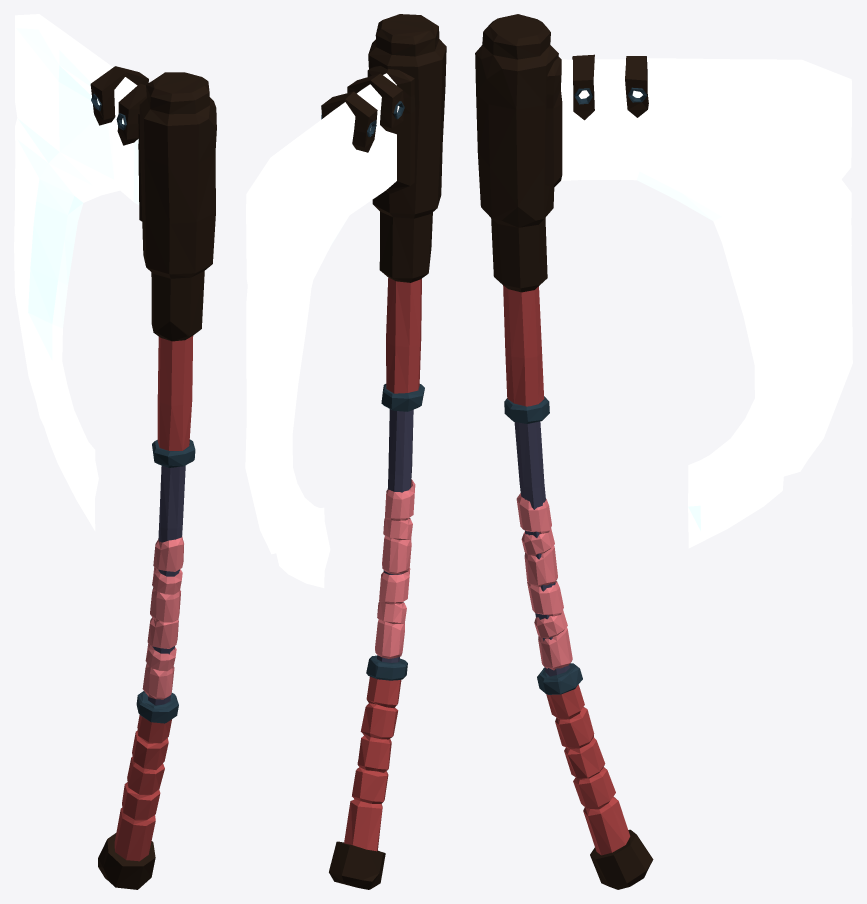
File: SFFA_Weapon_Axe_Runical_003.fbx
3 renders of one model, left to right at view 1: azimuth 30°, elevation 25°; view 2: azimuth 150°, elevation 25°; view 3: azimuth 270°, elevation 25°, orthographic. The views are drawn at different scales.
Visible parts, largest first — view 1: SFFA_Weapon_Axe_Runical_003; view 2: SFFA_Weapon_Axe_Runical_003; view 3: SFFA_Weapon_Axe_Runical_003.
Part boxes in pixels (<box>): SFFA_Weapon_Axe_Runical_003: <box>14,14,216,889</box>; SFFA_Weapon_Axe_Runical_003: <box>245,14,446,889</box>; SFFA_Weapon_Axe_Runical_003: <box>475,14,852,889</box>.
Bounding box in the file's own units: 10.25 × 116 × 46.39.
